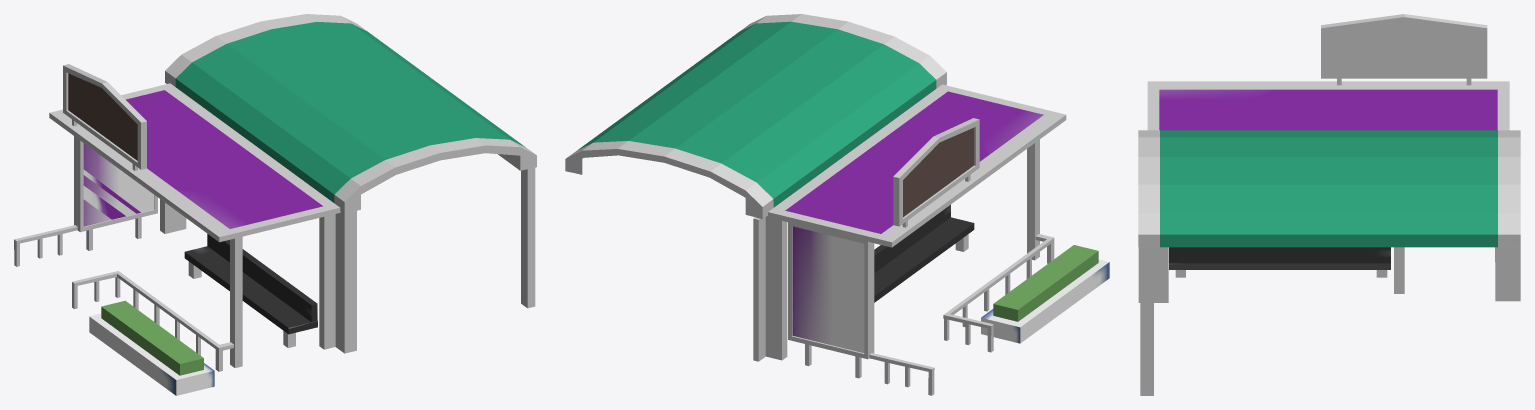
File: ggchezhan_01.FBX
3 views of the same model, side by side, from view 1: azimuth 30°, elevation 25°; view 2: azimuth 150°, elevation 25°; view 3: azimuth 270°, elevation 25° (orthographic). The views are drawn at different scales.
Parts seen in each view (by area): view 1: ggchezhan_01; view 2: ggchezhan_01; view 3: ggchezhan_01.
Part boxes in pixels (bbox=[...]): ggchezhan_01: bbox=[14, 14, 536, 395]; ggchezhan_01: bbox=[565, 14, 1109, 395]; ggchezhan_01: bbox=[1138, 14, 1520, 395].
Bounding box in the file's own units: 1883 × 1079 × 1647.
